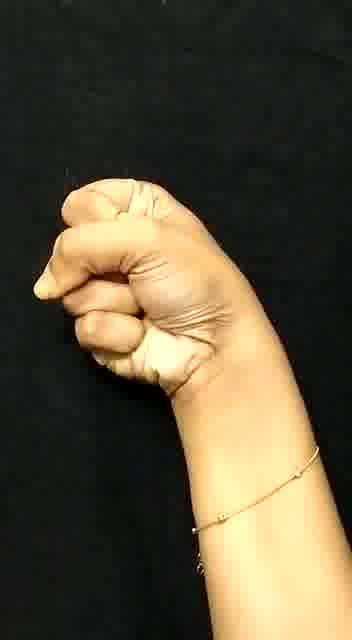mushti: (44, 152, 278, 446)
